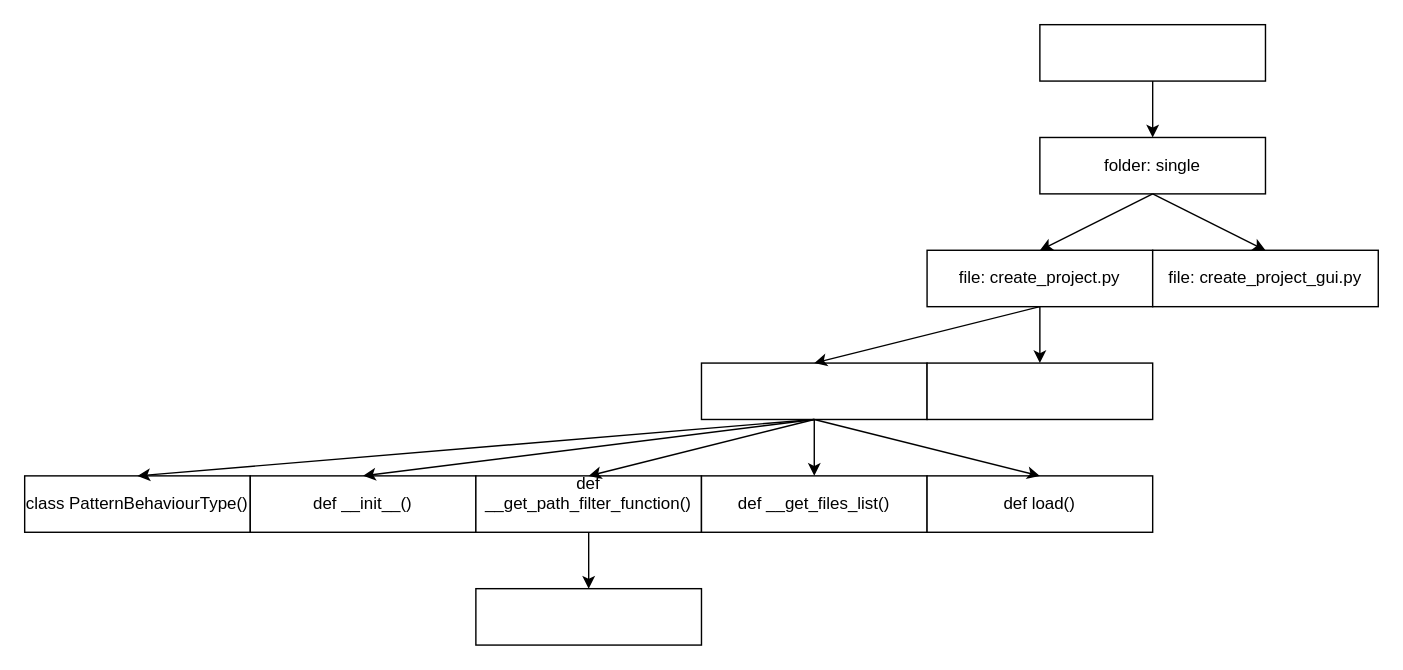
Some shapes in this 1403 by 670 pixel diagram are drawn without their labels. The shapes that lost their labels are listed below. From the top down, each one's centre as x and y in pixels, then its label:
(1151,52): folder: project_creation
(813,390): class ImagesLoader
(1039,390): def split_chunk_by_sensors()
(587,616): def filter_func()
